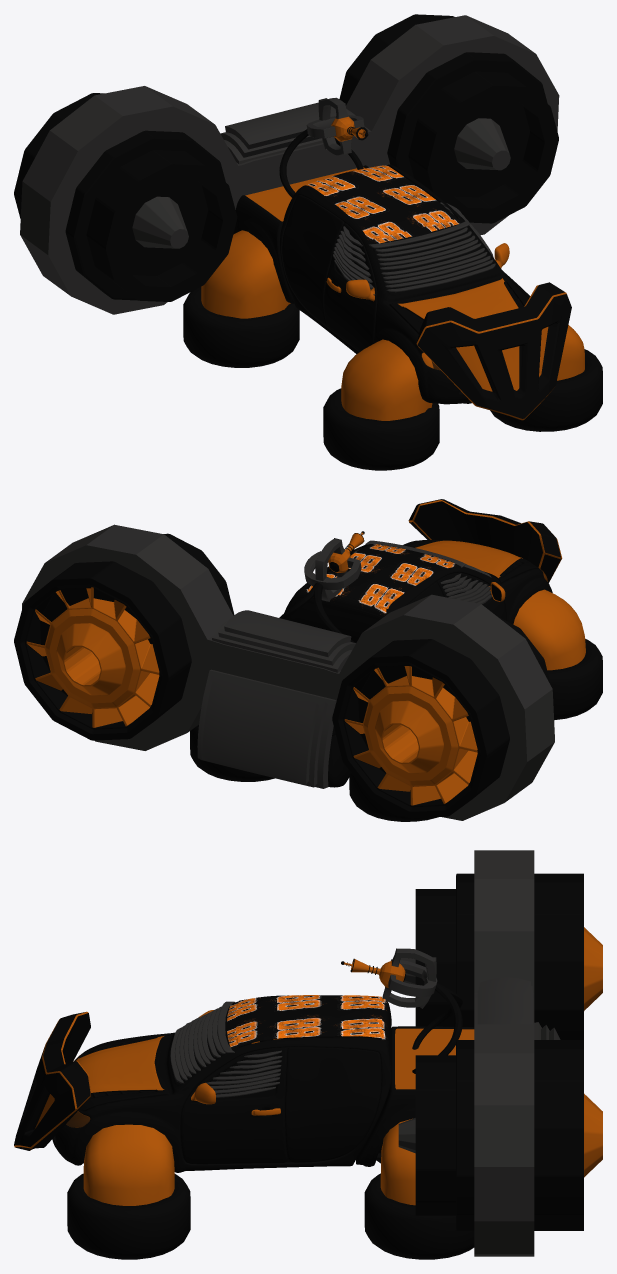
File: DND_Carl.fbx
3 renders of one model, top to bottom at view 1: azimuth 30°, elevation 25°; view 2: azimuth 150°, elevation 25°; view 3: azimuth 270°, elevation 25°, orthographic. The views are drawn at different scales.
Parts seen in each view (by area): view 1: M5_JetHolder, M5_JetExhaust5, polySurface1343, M5_JetExhaust4, M2_Shield, M5_Tires_03, polySurface1344, M5_Tires_02, M5_TireShield_04, M5_TireShield_02, M5_Tires_04, M5_TopTombstone (+4 smaller); view 2: M5_JetHolder, M5_JetExhaust4, M5_JetExhaust5, M5_Tombstone, polySurface1343, M2_Shield, M5_TopTombstone, polySurface1344, M5_TireShield_04, M5_Tires_03, M5_TetherBeam2, M5_Tires_02 (+2 smaller); view 3: polySurface1343, M5_JetHolder, M5_JetExhaust4, M5_JetExhaust5, M5_Tires_04, M5_TireShield_03, polySurface1344, M2_Shield, M5_Tires_01, M5_TetherBeam2, M5_TopTombstone, M5_TrunkLid (+2 smaller).
Part boxes in pixels (bbox=[...]): M5_JetHolder: bbox=[20, 15, 559, 314]; M5_JetExhaust5: bbox=[14, 93, 237, 301]; polySurface1343: bbox=[233, 164, 530, 404]; M5_JetExhaust4: bbox=[339, 14, 558, 223]; M2_Shield: bbox=[416, 282, 571, 420]; M5_Tires_03: bbox=[323, 388, 439, 470]; polySurface1344: bbox=[305, 165, 457, 240]; M5_Tires_02: bbox=[183, 287, 299, 367]; M5_TireShield_04: bbox=[341, 339, 433, 420]; M5_TireShield_02: bbox=[201, 230, 290, 318]; M5_Tires_04: bbox=[490, 349, 602, 431]; M5_TopTombstone: bbox=[220, 102, 355, 164]; M5_JetHolder: bbox=[22, 524, 554, 820]; M5_JetExhaust4: bbox=[14, 533, 234, 740]; M5_JetExhaust5: bbox=[332, 616, 550, 818]; M5_Tombstone: bbox=[197, 669, 336, 788]; polySurface1343: bbox=[284, 540, 552, 787]; M2_Shield: bbox=[408, 499, 562, 582]; M5_TopTombstone: bbox=[212, 610, 355, 672]; polySurface1344: bbox=[307, 545, 457, 608]; M5_TireShield_04: bbox=[513, 589, 585, 670]; M5_Tires_03: bbox=[547, 639, 602, 719]; M5_TetherBeam2: bbox=[304, 531, 364, 601]; M5_Tires_02: bbox=[349, 773, 438, 821]; polySurface1343: bbox=[52, 997, 474, 1172]; M5_JetHolder: bbox=[474, 850, 534, 1256]; M5_JetExhaust4: bbox=[398, 1040, 602, 1230]; M5_JetExhaust5: bbox=[400, 873, 602, 1039]; M5_Tires_04: bbox=[67, 1173, 190, 1259]; M5_TireShield_03: bbox=[83, 1124, 174, 1205]; polySurface1344: bbox=[235, 995, 381, 1046]; M2_Shield: bbox=[14, 1011, 90, 1150]; M5_Tires_01: bbox=[364, 1173, 474, 1259]; M5_TetherBeam2: bbox=[341, 948, 437, 1008]; M5_TopTombstone: bbox=[477, 977, 532, 1024]; M5_TrunkLid: bbox=[395, 1028, 474, 1089].
Size of the model in its own units: 14.04 by 6.26 by 13.22.
Materials: 10 (1 with a texture image).
